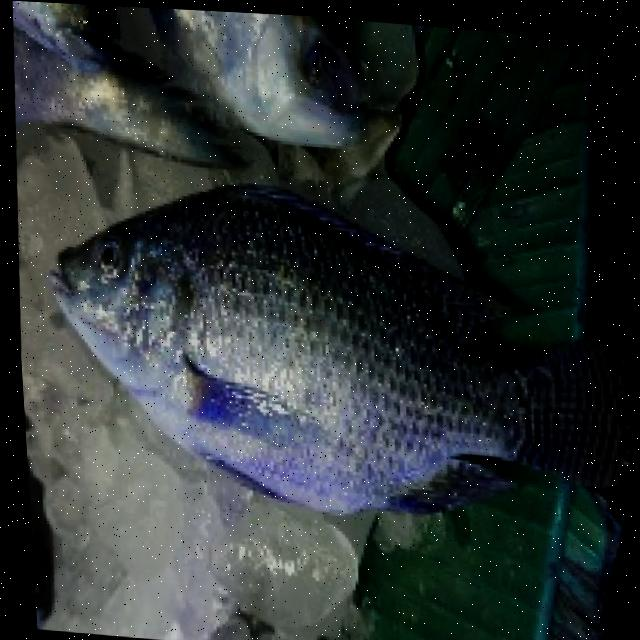Fresh: (32, 168, 568, 536)
